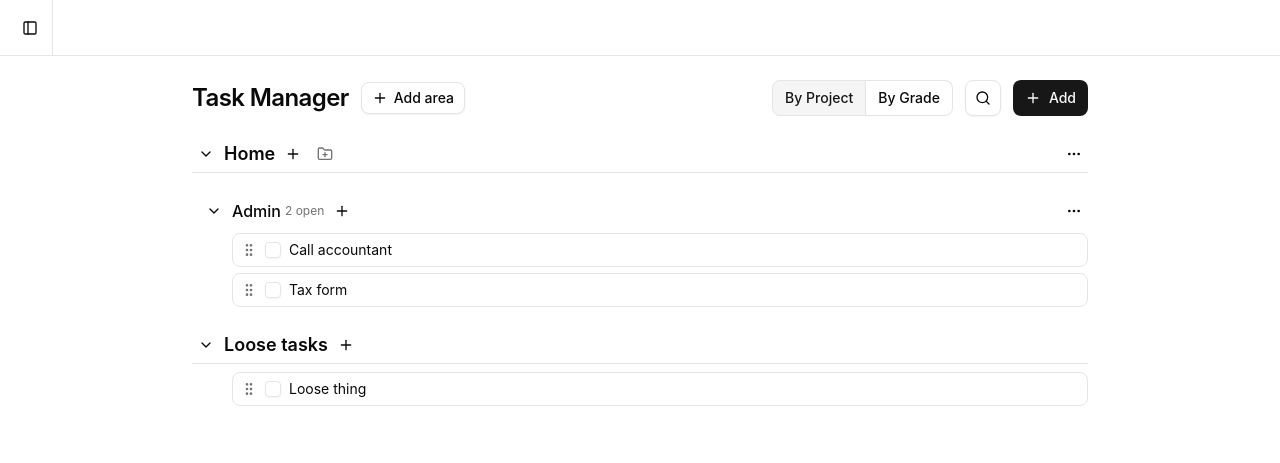
Scenario: By Project: collapsing and the + next to titles › + on a collapsed node expands it and shows the field
What coordinates should you click on to do the following:
click the button with test id "node-toggle"
I would click on:
 (214, 211)
Its box is [200,197,228,225].
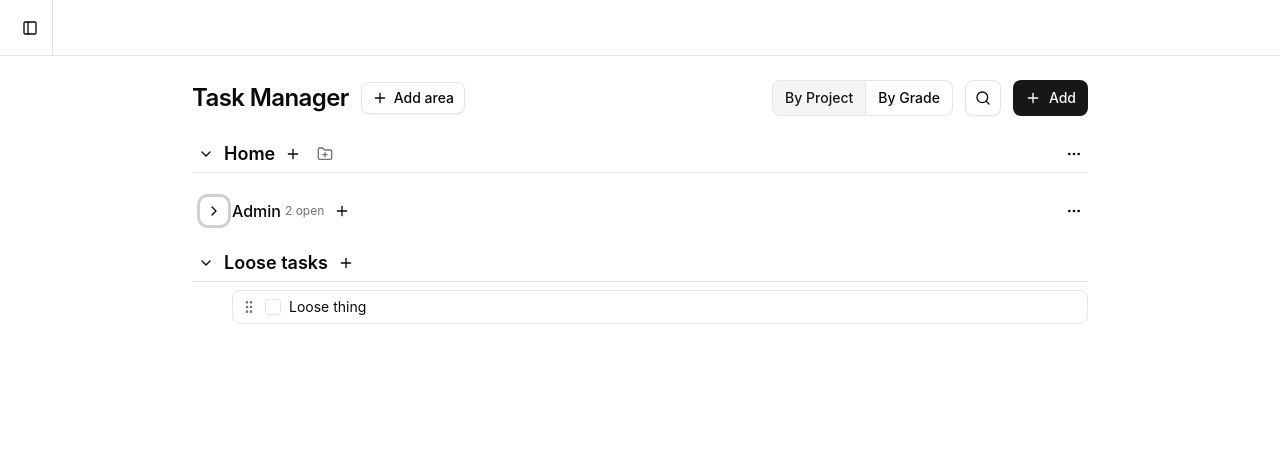
What coordinates should you click on to do the following:
click the button named "Add a task to Admin"
I would click on:
 (342, 211)
Its box is [328,197,356,225].
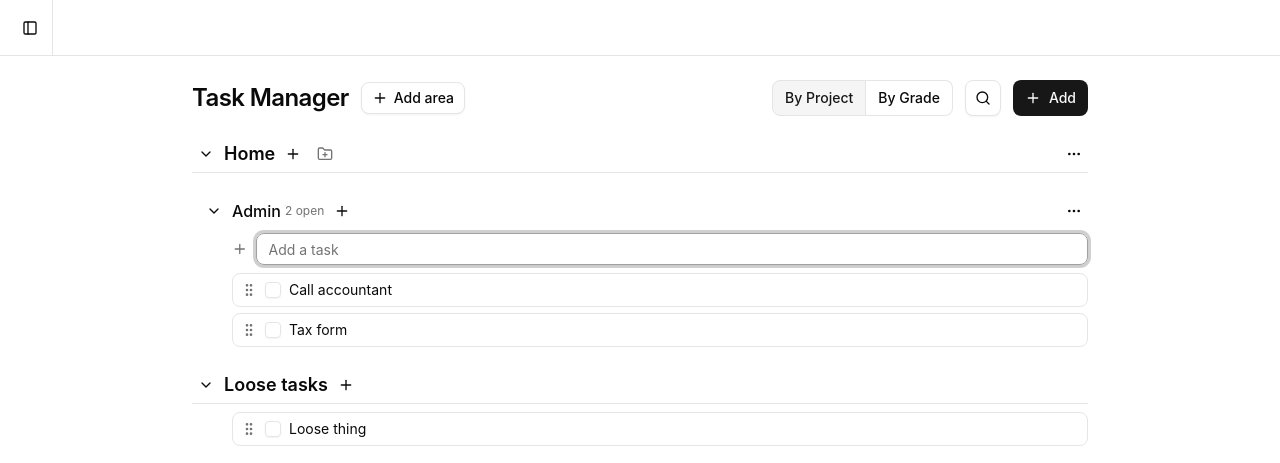
Now the button named "Collapse Admin" is shown, box [200,197,228,225]
